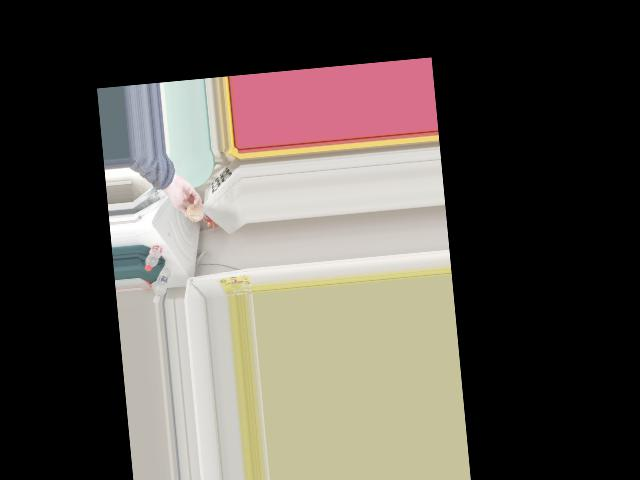sweet_potato: (185, 200, 202, 221)
